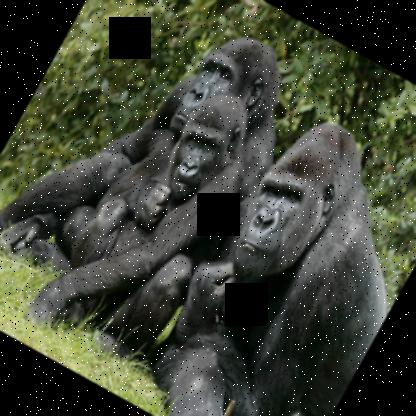Gorilla gorilla: (0, 0, 335, 358), (124, 97, 415, 415), (22, 58, 280, 382)
